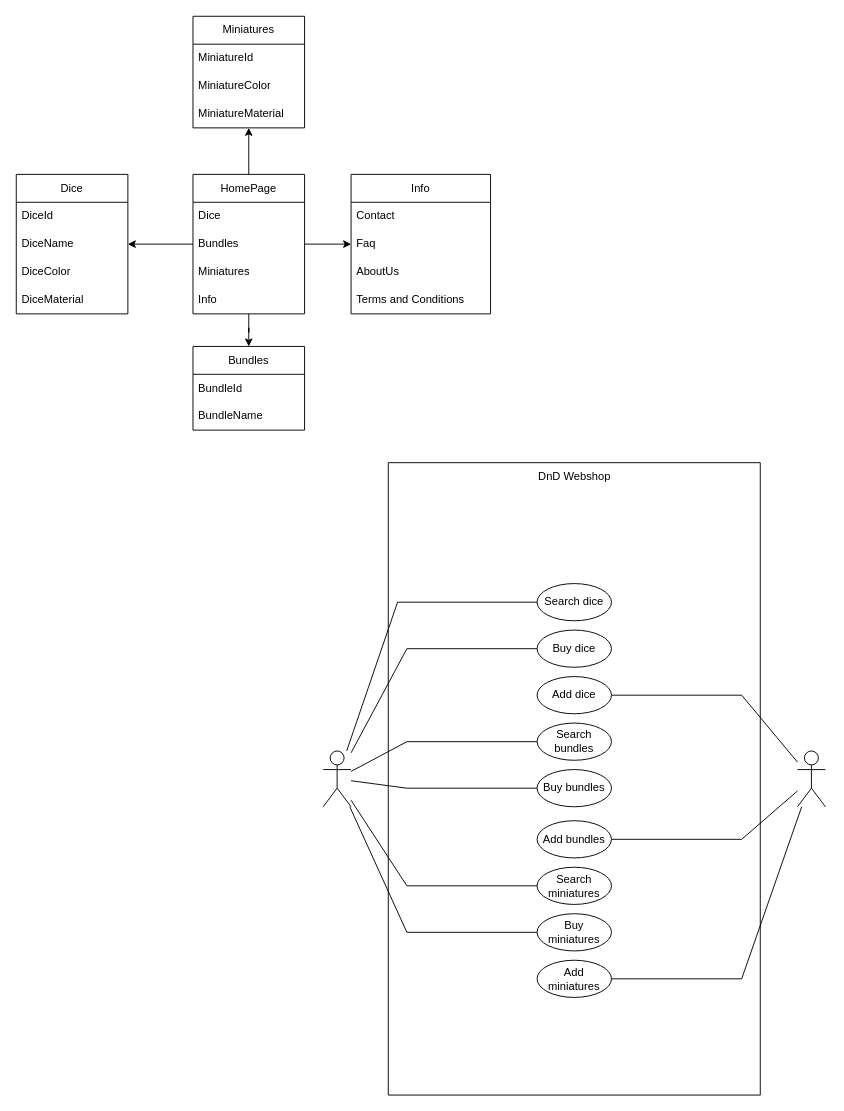
This 844x1111 diagram has some shape labels left out. Here are the shapes that lost their labels. From the top down, the centre of each, then its label:
point 336,778: Customer
point 811,778: Admin
